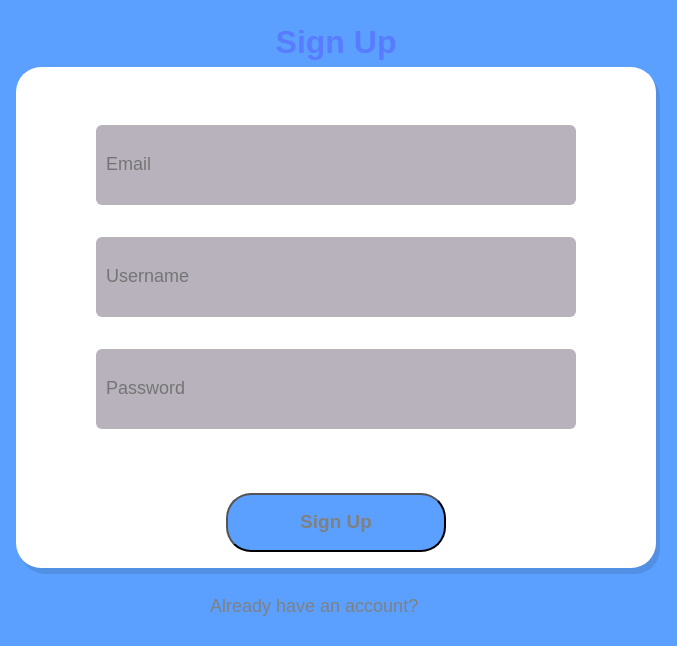
Test case: shows an error message when fields are empty
The image size is (677, 646).
Click the button "Sign Up".
click(336, 522)  # box [226, 493, 446, 552]
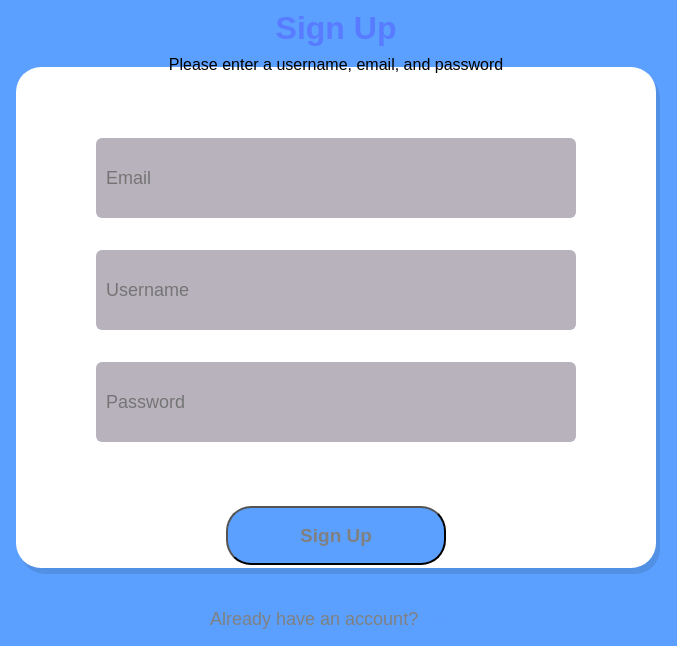
Now the text "Please enter a username, email, and password" is shown, box [169, 56, 503, 74]
